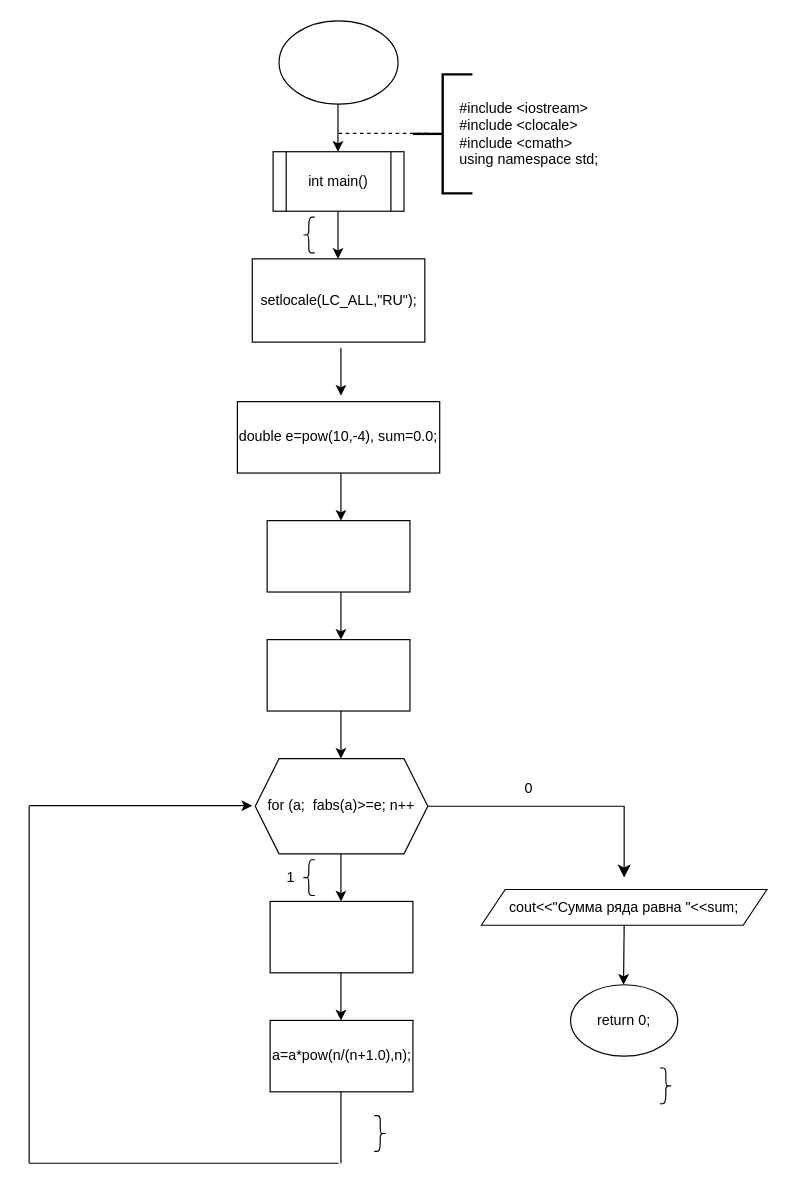
Some shapes in this 788 by 1185 pixel diagram are drawn without their labels. The centre of each missing label's shape, as x and y in pixels:
"double a=1.0;" belongs at [338,674].
"int n=1;" belongs at [338,555].
"sum+=a;" belongs at [341,936].
"Начало" belongs at [338,62].
